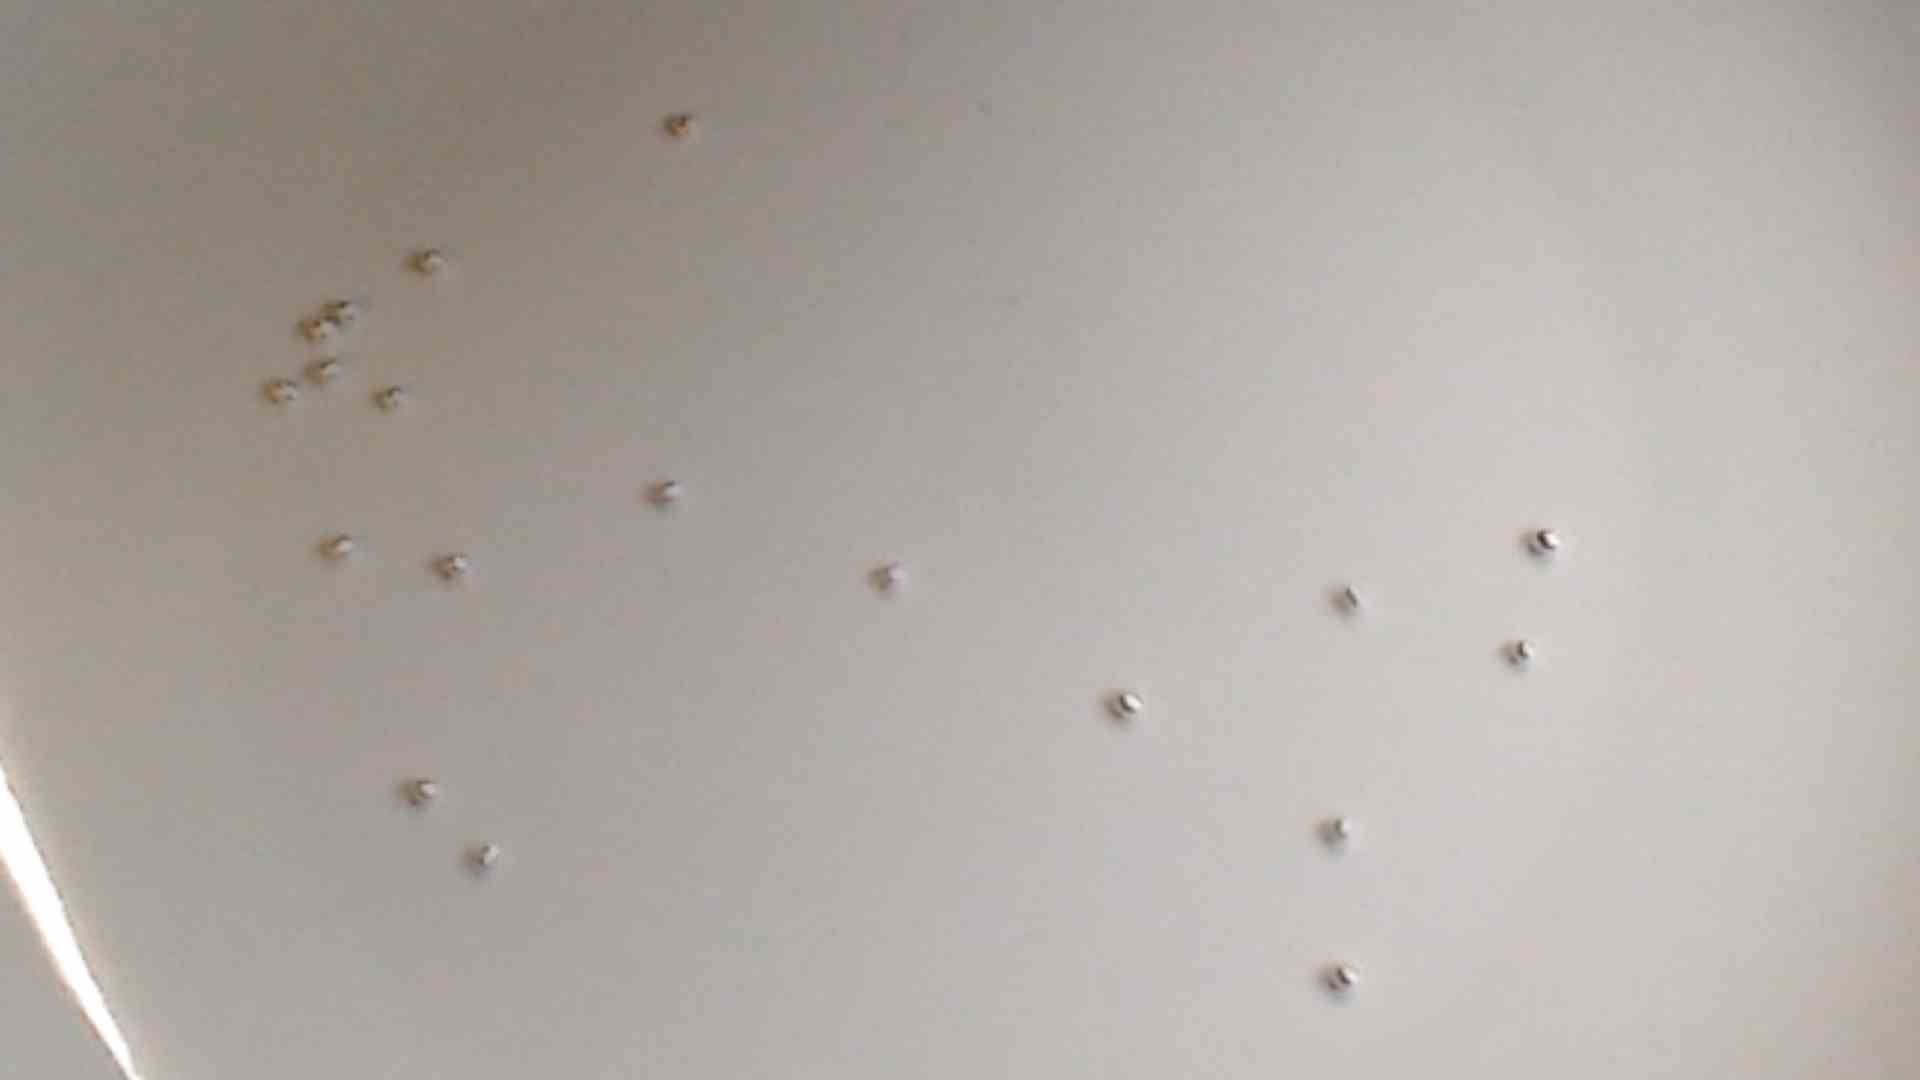chocolate: (1524, 520, 1565, 559), (1315, 812, 1357, 851), (1323, 956, 1365, 994), (1109, 687, 1149, 727), (309, 351, 347, 389), (465, 837, 505, 874), (262, 375, 301, 411), (316, 526, 353, 564), (1505, 632, 1542, 669), (870, 559, 909, 595), (298, 313, 339, 345), (1333, 578, 1370, 612), (373, 384, 411, 417), (434, 546, 472, 579), (414, 244, 448, 280), (328, 293, 365, 323), (406, 775, 440, 807), (647, 477, 680, 508), (663, 108, 695, 137)
